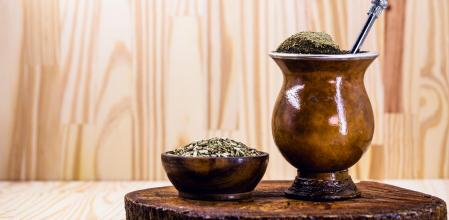calabaza: (269, 30, 383, 204)
mate: (271, 32, 385, 206)
